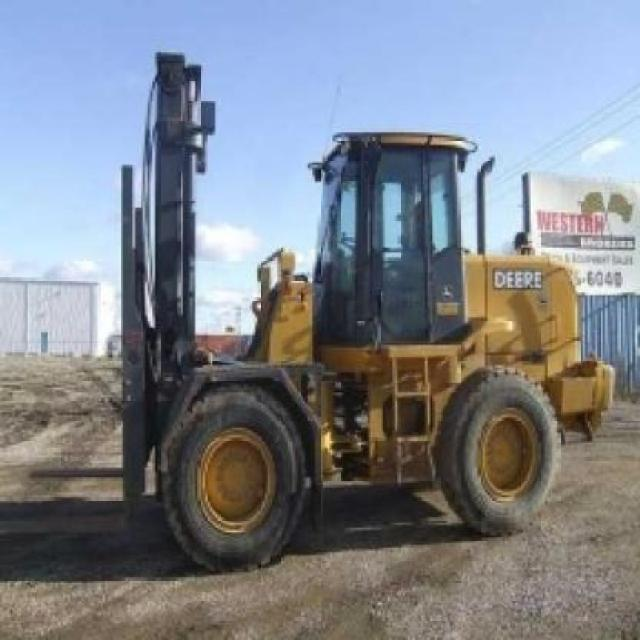forklift: (123, 53, 618, 573)
